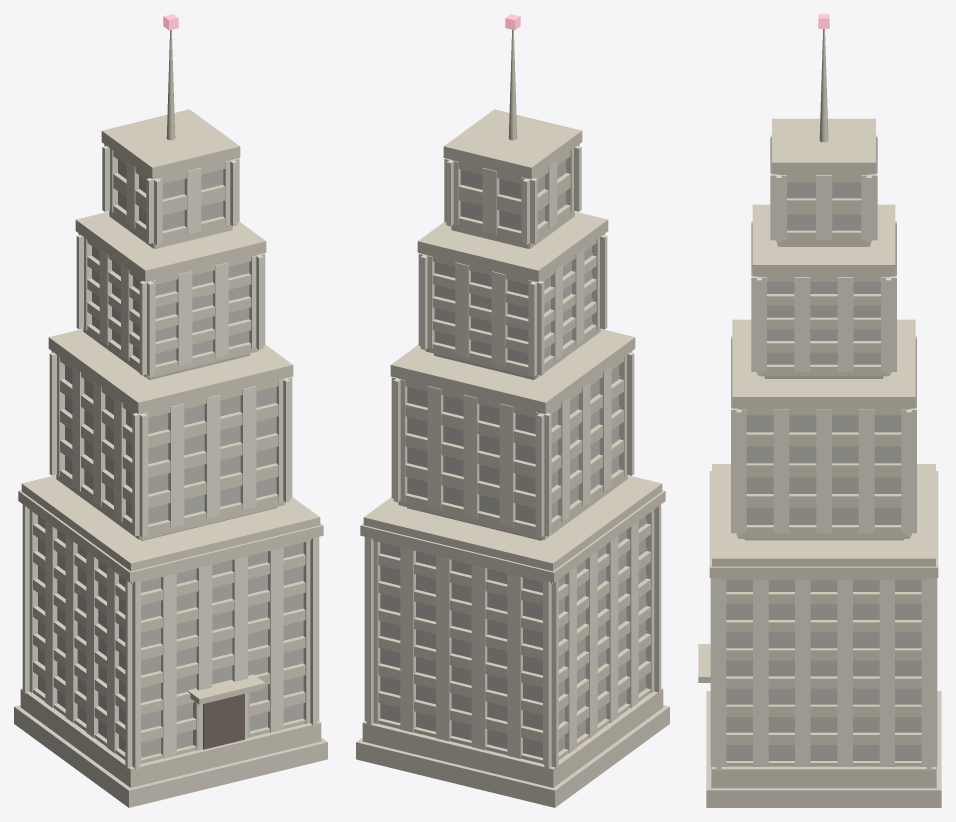
The model's file is num-s-built.glb.
3 views of the same model, side by side, from view 1: azimuth 30°, elevation 25°; view 2: azimuth 150°, elevation 25°; view 3: azimuth 270°, elevation 25° (orthographic). The views are drawn at different scales.
Bounding box in the file's own units: 14.5 × 50.45 × 15.
